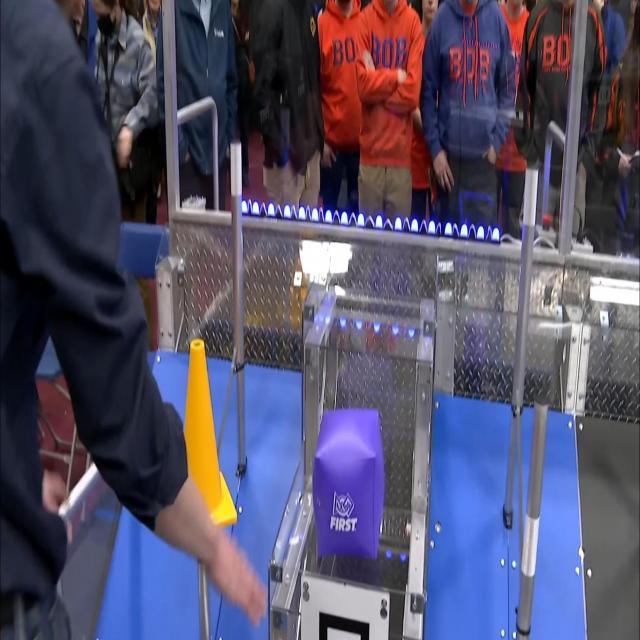frc_cone: (182, 342, 236, 533)
frc_cube: (313, 405, 385, 560)
